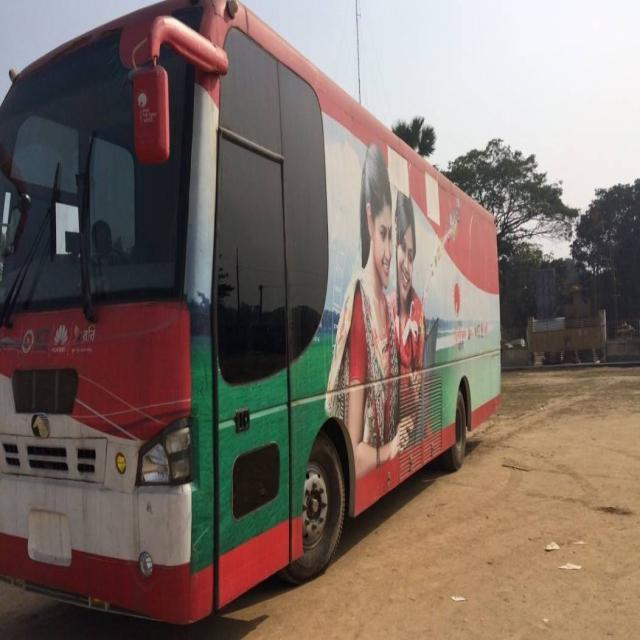bus: (1, 0, 500, 628)
